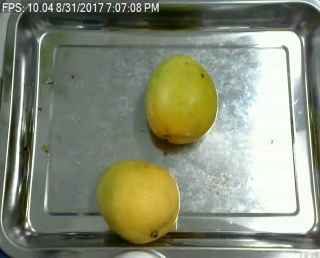Mango: (98, 160, 181, 242), (143, 55, 217, 144)
